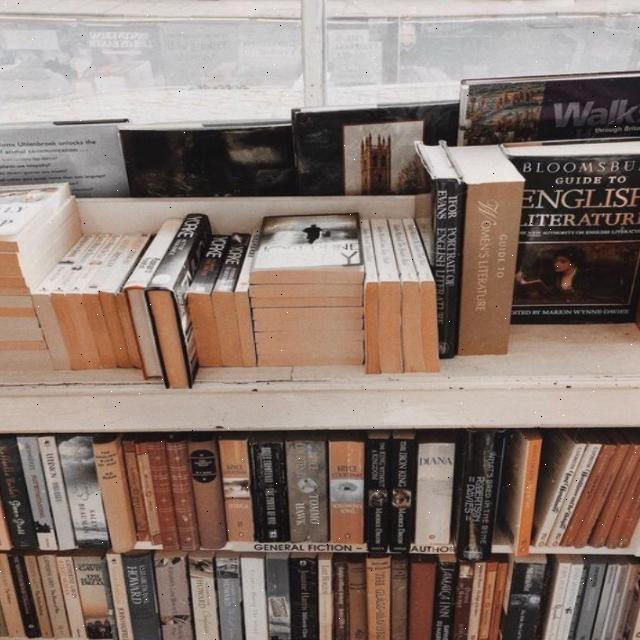book: (494, 155, 640, 318), (457, 181, 520, 354), (415, 140, 462, 356), (531, 432, 595, 548), (453, 428, 505, 558), (250, 212, 363, 270), (58, 434, 110, 550), (92, 436, 140, 556), (413, 432, 456, 553), (506, 430, 544, 556), (36, 437, 77, 551), (0, 435, 41, 547), (248, 435, 290, 544), (284, 436, 326, 544), (187, 436, 226, 549), (328, 434, 366, 546), (498, 556, 546, 640), (217, 437, 254, 544), (118, 549, 161, 640), (164, 435, 198, 549), (144, 436, 178, 550), (538, 555, 583, 640), (153, 551, 194, 640), (384, 432, 415, 548), (52, 552, 90, 640), (4, 554, 44, 637), (570, 557, 608, 640), (187, 553, 222, 640), (213, 550, 245, 640), (287, 552, 318, 640), (362, 436, 388, 539), (263, 553, 293, 640), (238, 552, 267, 640), (429, 555, 457, 640), (406, 555, 434, 640), (364, 552, 390, 640), (449, 557, 475, 640), (344, 555, 366, 640), (389, 553, 408, 640), (331, 554, 350, 640)
